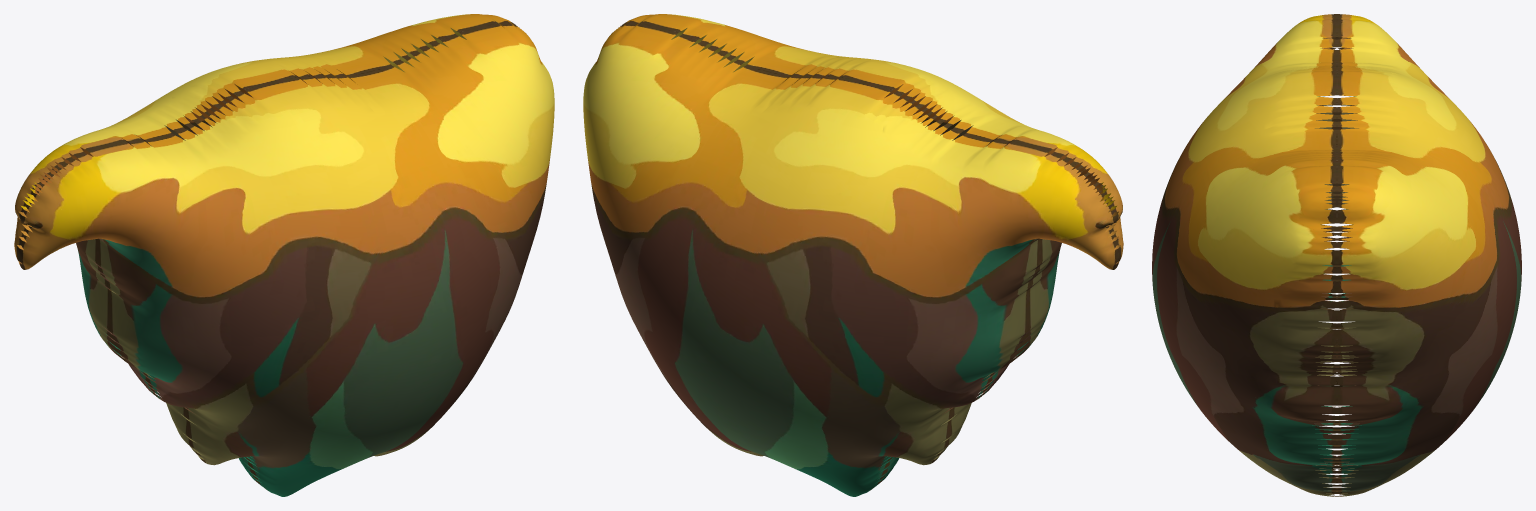
The model's file is sandstone_terrace.glb.
3 views of the same model, side by side, from view 1: azimuth 30°, elevation 25°; view 2: azimuth 150°, elevation 25°; view 3: azimuth 270°, elevation 25° (orthographic). The views are drawn at different scales.
Parts seen in each view (by area): view 1: sandstone_terrace; view 2: sandstone_terrace; view 3: sandstone_terrace.
Part boxes in pixels (left/top/right/bottom): sandstone_terrace: left=14, top=14, right=554, bottom=496; sandstone_terrace: left=583, top=14, right=1123, bottom=496; sandstone_terrace: left=1152, top=14, right=1521, bottom=496.
Size of the model in its own units: 0.9889 by 0.7532 by 0.6426.
Materials: 1 (1 with a texture image).
